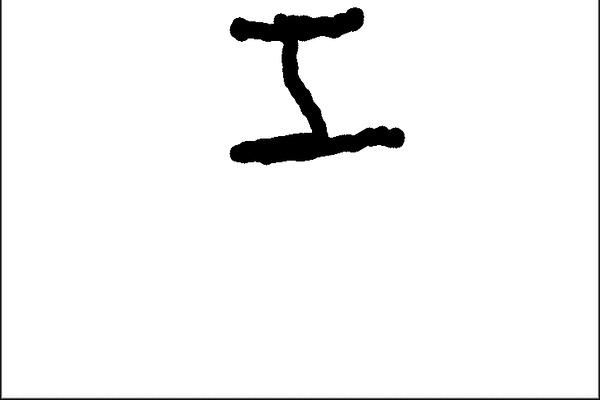i: (212, 4, 411, 168)
